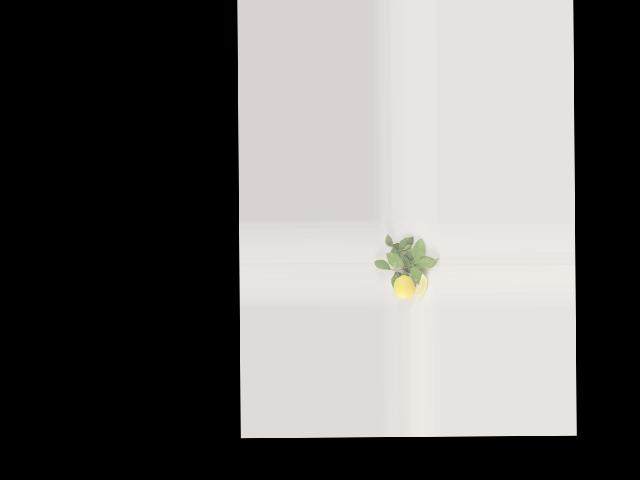lemon: (392, 272, 413, 298)
